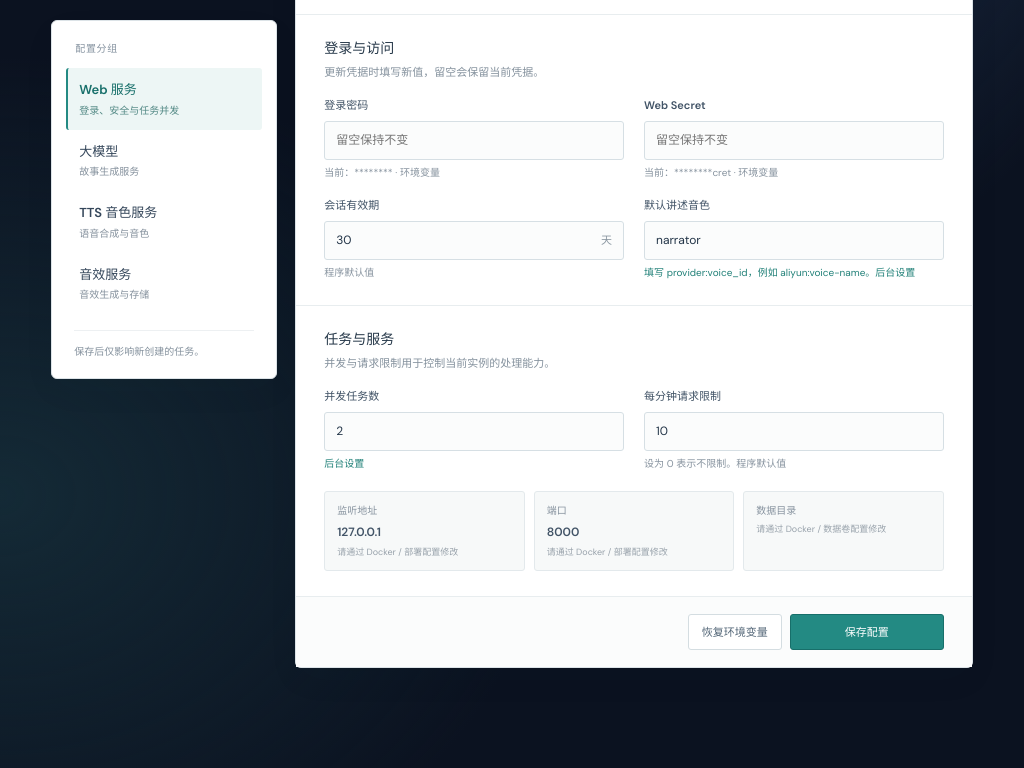
Test: SettingsView › keeps unsaved state per group when another group is saved
(page scrolled)
Step 1. Replace the text in the number field with test id "web-concurrency" with "4" → (474, 431), box [324,412,624,451]
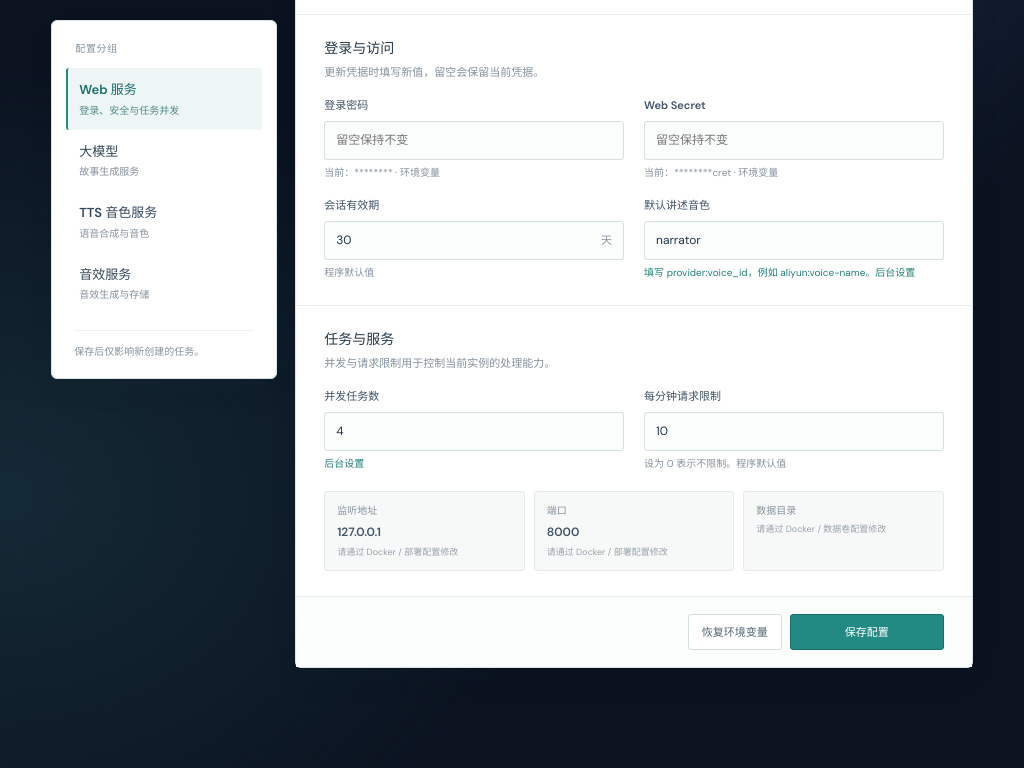
Step 2. Click the button with test id "settings-nav-llm" → (164, 160), box [66,130,262,191]
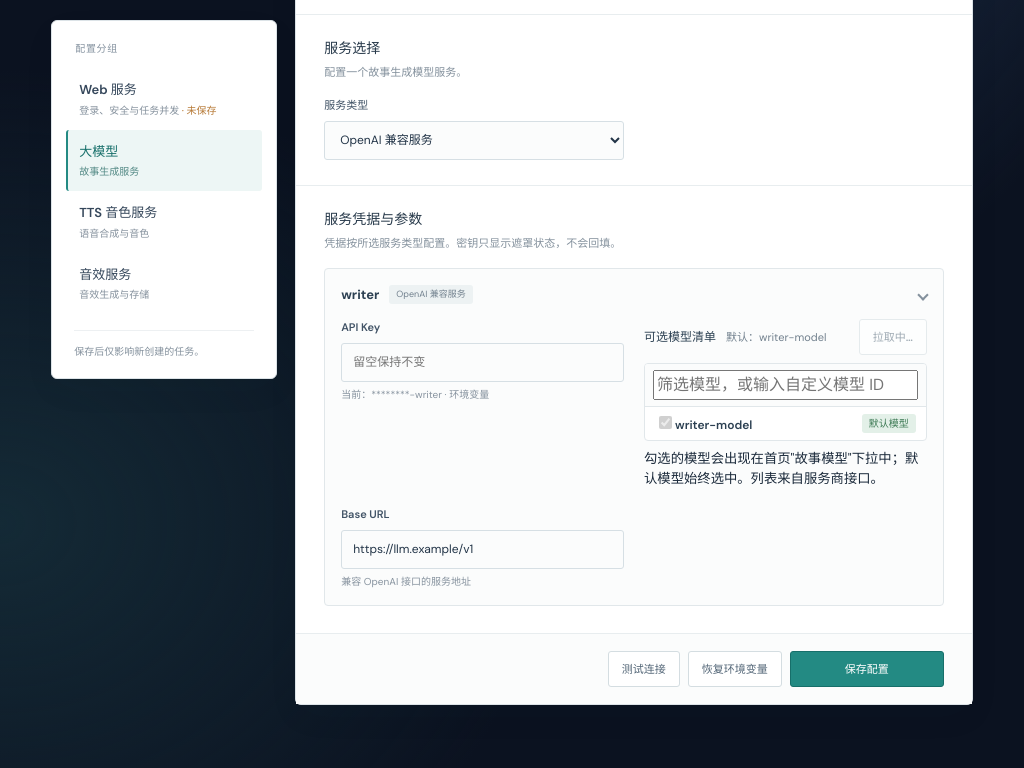
Step 3. Replace the text in the field labelled "Base URL 兼容 OpenAI 接口的服务地址" with "https://llm.example/v2" → (483, 549), box [341,530,624,569]
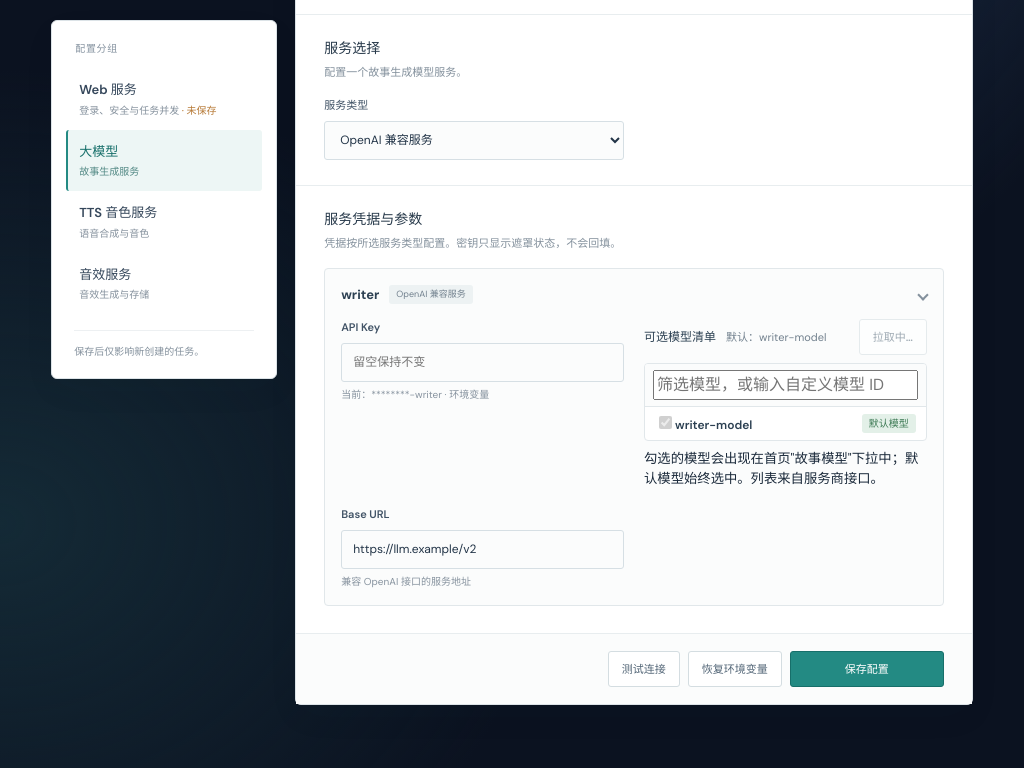
Step 4. Click the button "保存配置" → (867, 669), box [790,651,944,687]
(page scrolled)
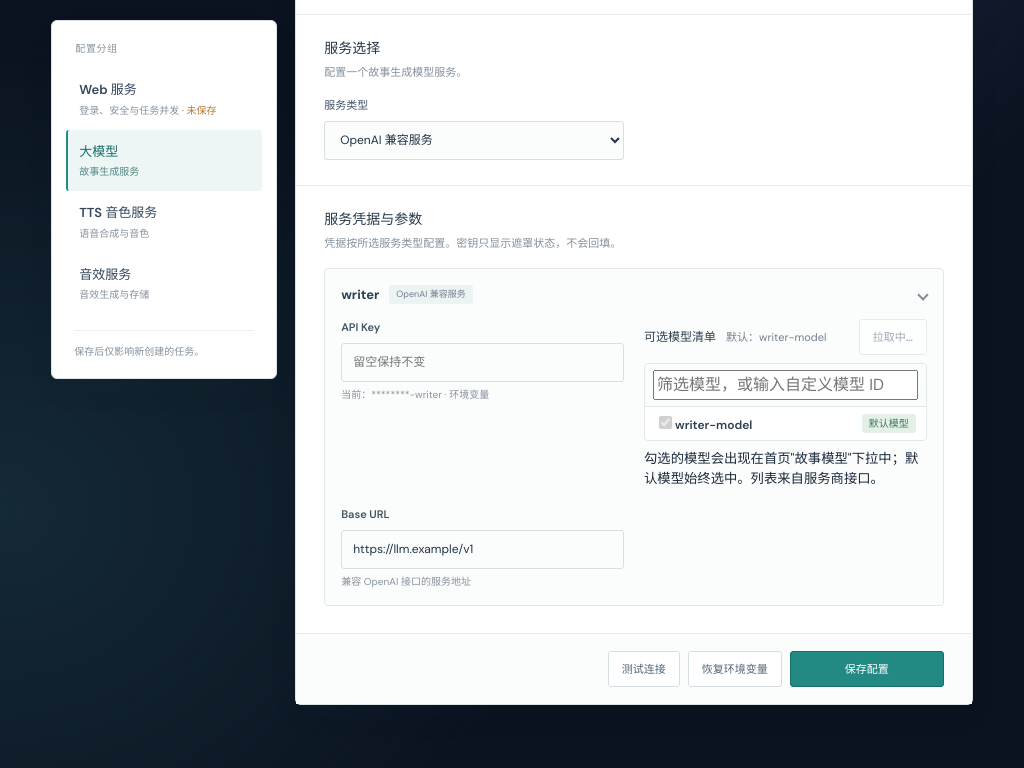
Expected: the element with test id "settings-nav-llm" does not show "未保存"
Result: the button with test id "settings-nav-web" shows "未保存"
Step 5. Click the button with test id "settings-nav-web" → (164, 99), box [66,68,262,130]
(page scrolled)
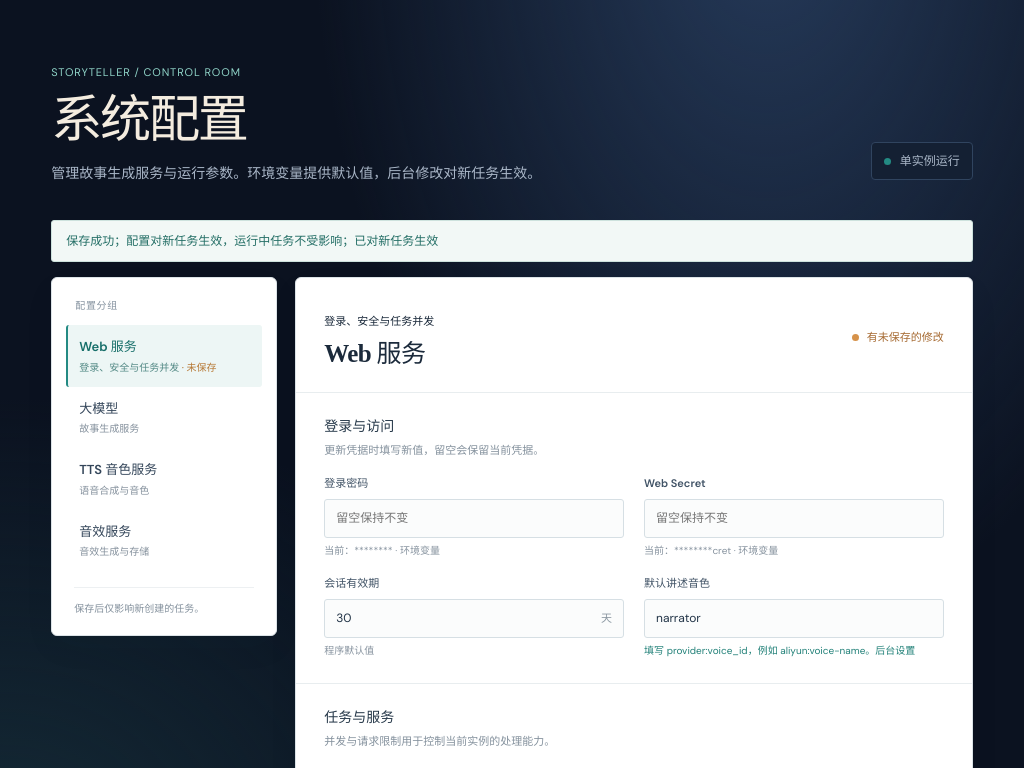
Result: the element with class "settings-unsaved" reads "有未保存的修改" at [867,330,944,344]
